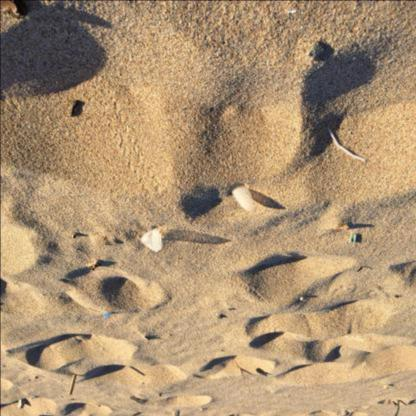Other plastic: (327, 127, 366, 161), (231, 186, 257, 212), (349, 233, 355, 244), (102, 312, 111, 319)
Plastic bag - wrapper: (141, 228, 162, 252)
